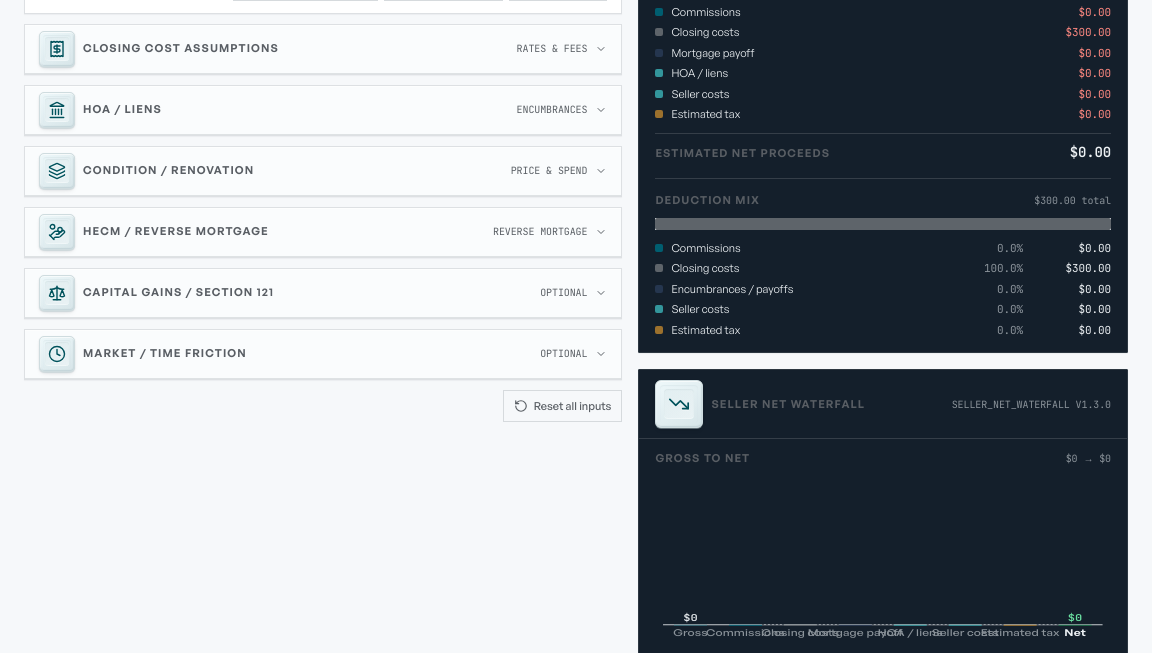
Capital Gains / Section 121 work-surface section › expands to reveal the four tax fields
(page scrolled)
Click the button with test id "inputs.capital_gains.toggle" at x=57, y=293, box [25,269,621,318]
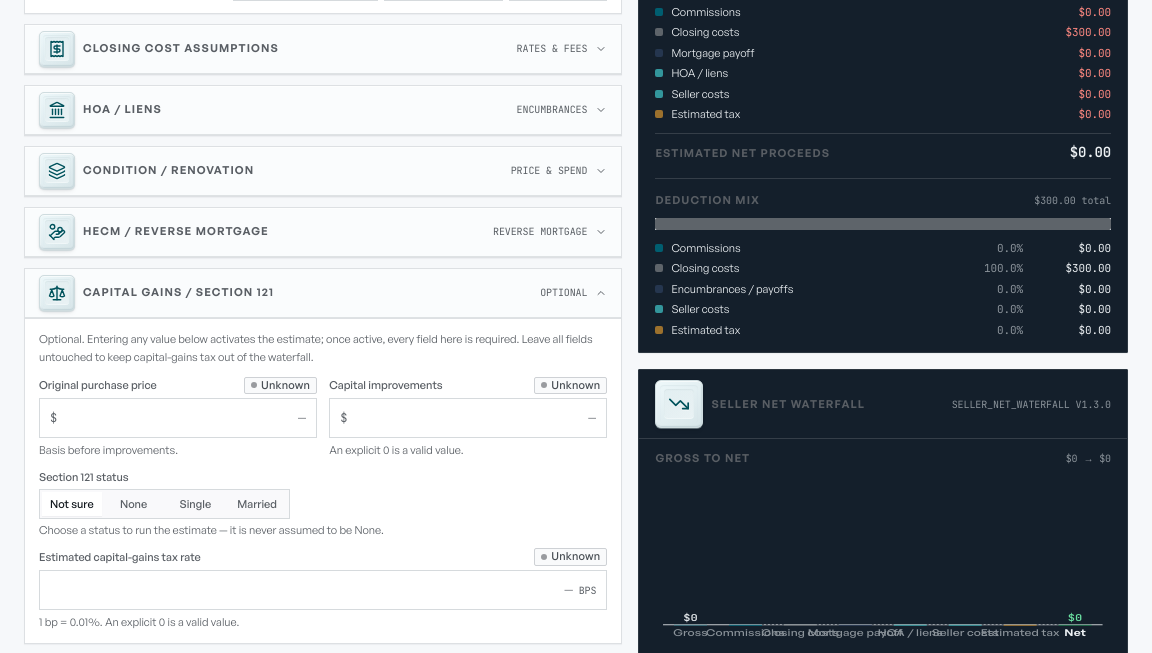
Expected: the field with test id "inputs.original_purchase_price" is shown, [63,399,306,437]
Expected: the field with test id "inputs.capital_improvements" is shown, [353,399,596,437]
Expected: the field with test id "inputs.capital_gains_tax_rate" is shown, [50,571,573,609]
